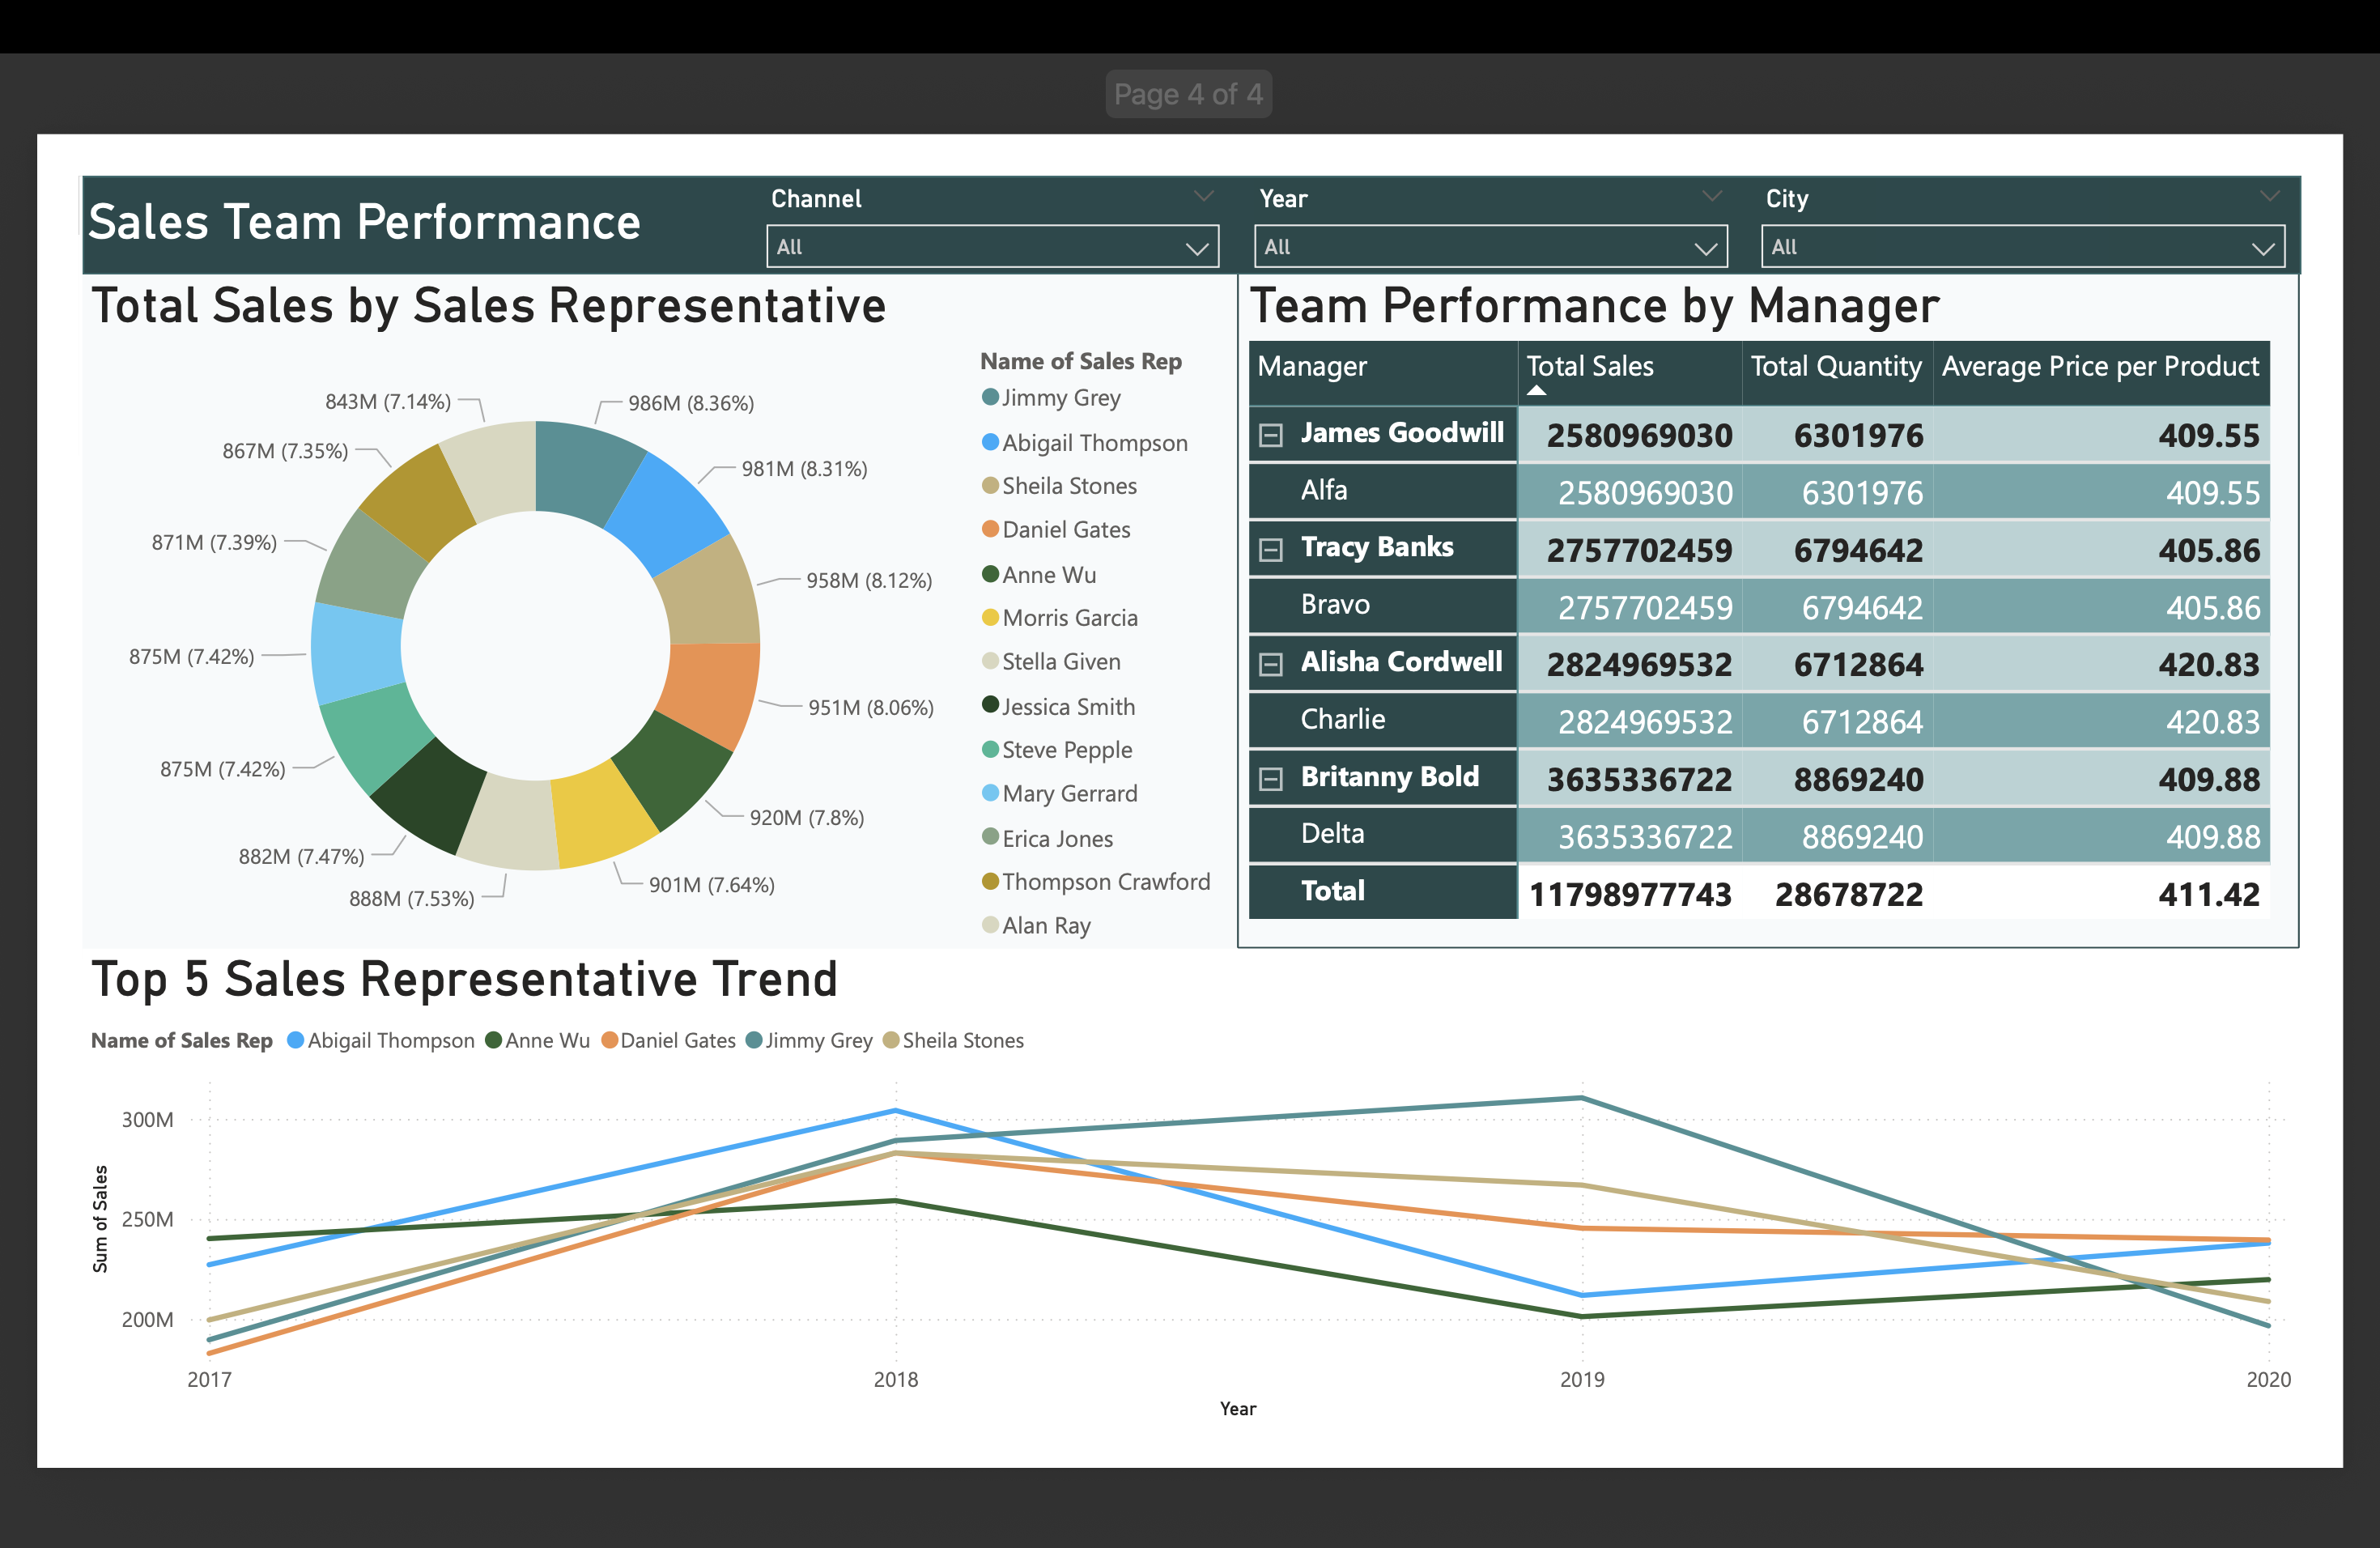

The dashboard page shown, as its layout file describes it:
{"tool":"powerbi","page":{"name":"Team Performance","canvas":[1280,720],"ordinal":3},"visuals":[{"type":"shape","box":[1.9,0.5,1278,56],"z":0,"group":"g1"},{"type":"pivotTable","title":"Team Performance by Manager","fields":{"Rows":["pharma-data-cdip-final-project - pharma-data-cdip-final-project.Manager","pharma-data-cdip-final-project - pharma-data-cdip-final-project.Sales Team"],"Values":["pharma-data-cdip-final-project - pharma-data-cdip-final-project.Total Sales","pharma-data-cdip-final-project - pharma-data-cdip-final-project.Total Quantity","pharma-data-cdip-final-project - pharma-data-cdip-final-project.Average Price per Product"]},"box":[667.3,55.1,612.1,389.7],"z":0},{"type":"slicer","fields":{"Values":["pharma-data-cdip-final-project - pharma-data-cdip-final-project.City"]},"box":[958.9,0.4,322.5,54.5],"z":1000,"group":"g1"},{"type":"donutChart","title":"Total Sales by Sales Representative","fields":{"Category":["pharma-data-cdip-final-project - pharma-data-cdip-final-project.Name of Sales Rep"],"Y":["pharma-data-cdip-final-project - pharma-data-cdip-final-project.Total Sales"]},"box":[1.9,57,665.4,393.5],"z":1000},{"type":"group","id":"g1","title":"Group 1","box":[0,0,1281.4,56.5],"z":2000},{"type":"slicer","fields":{"Values":["pharma-data-cdip-final-project - pharma-data-cdip-final-project.Channel"]},"box":[386.5,0,280.1,54.5],"z":2000,"group":"g1"},{"type":"slicer","fields":{"Values":["pharma-data-cdip-final-project - pharma-data-cdip-final-project.Date.Variation.Date Hierarchy.Year"]},"box":[666.6,0.1,293.8,54.5],"z":3000,"group":"g1"},{"type":"lineChart","title":"Top 5 Sales Representative Trend","fields":{"Category":["pharma-data-cdip-final-project - pharma-data-cdip-final-project.Date.Variation.Date Hierarchy.Year","pharma-data-cdip-final-project - pharma-data-cdip-final-project.Date.Variation.Date Hierarchy.Quarter","pharma-data-cdip-final-project - pharma-data-cdip-final-project.Date.Variation.Date Hierarchy.Month","pharma-data-cdip-final-project - pharma-data-cdip-final-project.Date.Variation.Date Hierarchy.Day"],"Y":["pharma-data-cdip-final-project - pharma-data-cdip-final-project.Sales"],"Series":["pharma-data-cdip-final-project - pharma-data-cdip-final-project.Name of Sales Rep"]},"box":[1.9,444.8,1277.5,275.6],"z":3000},{"type":"textbox","box":[0,4.1,384.3,48],"z":4000,"group":"g1"}]}

Visuals, with their boxes on the page's 1280x720 design canvas (x1, y1, x2, y2). These are canvas units, not pixel positions in the 2380x1548 screenshot, which may show the page scaled, cropped or inside an application window:
shape: x1=2, y1=0, x2=1280, y2=56
"Team Performance by Manager" pivotTable: x1=667, y1=55, x2=1279, y2=445
slicer - pharma-data-cdip-final-project - pharma-data-cdip-final-project.City: x1=959, y1=0, x2=1281, y2=55
"Total Sales by Sales Representative" donutChart: x1=2, y1=57, x2=667, y2=450
"Group 1" group: x1=0, y1=0, x2=1281, y2=56
slicer - pharma-data-cdip-final-project - pharma-data-cdip-final-project.Channel: x1=386, y1=0, x2=667, y2=54
slicer - pharma-data-cdip-final-project - pharma-data-cdip-final-project.Date.Variation.Date Hierarchy.Year: x1=667, y1=0, x2=960, y2=55
"Top 5 Sales Representative Trend" lineChart: x1=2, y1=445, x2=1279, y2=720
textbox: x1=0, y1=4, x2=384, y2=52
